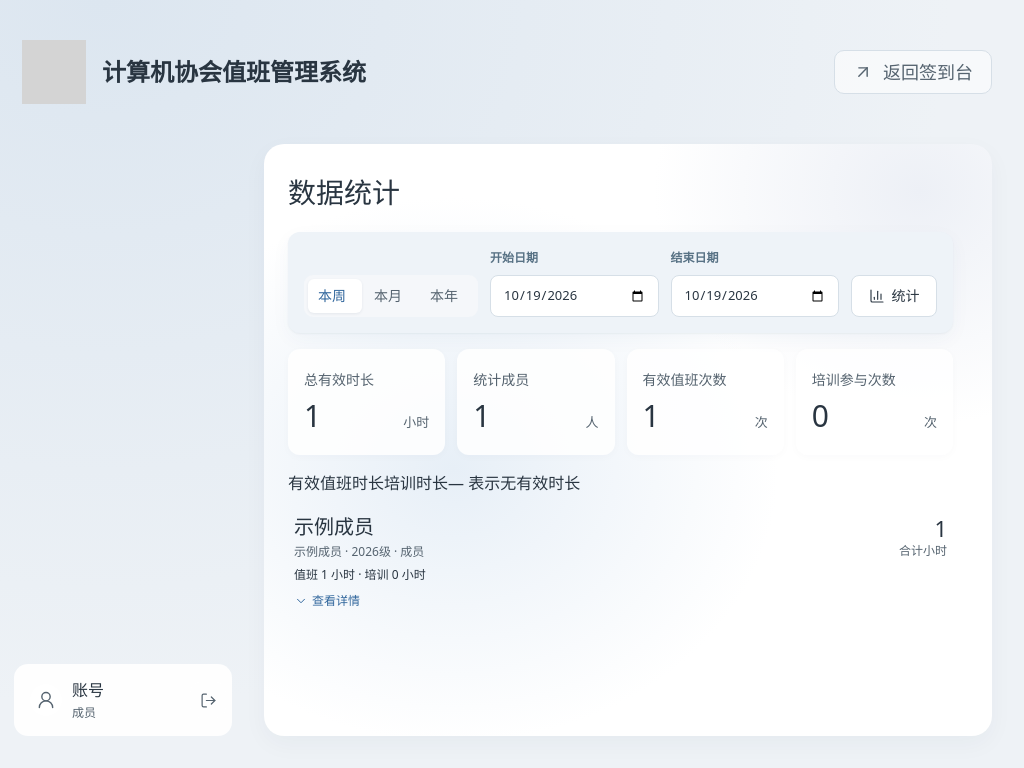
Scenario: StatsPage request states › requires applying changed dates before replacing the displayed statistics
Step 1. Type "2026-01-01" into the date field named "statsFrom" → (574, 296), box left=490, top=275, right=658, bottom=317
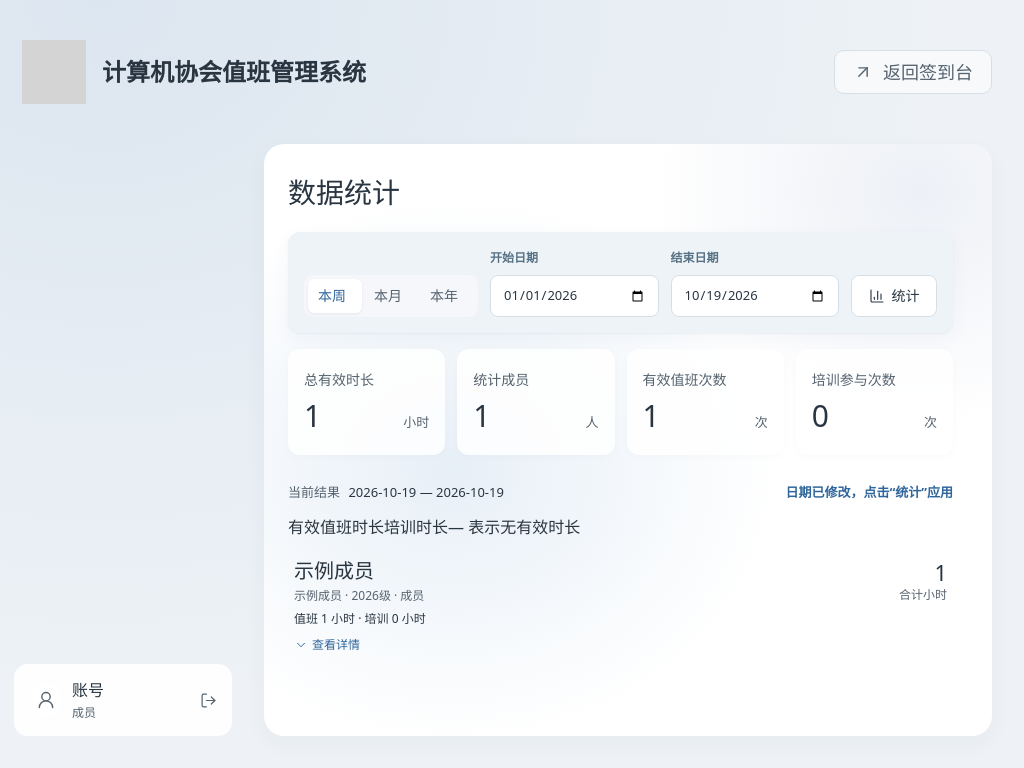
Now the element with class "stats-results-context" shows "日期已修改，点击“统计”应用", box left=785, top=483, right=953, bottom=501
Step 2. Submit the form, box left=288, top=232, right=953, bottom=333
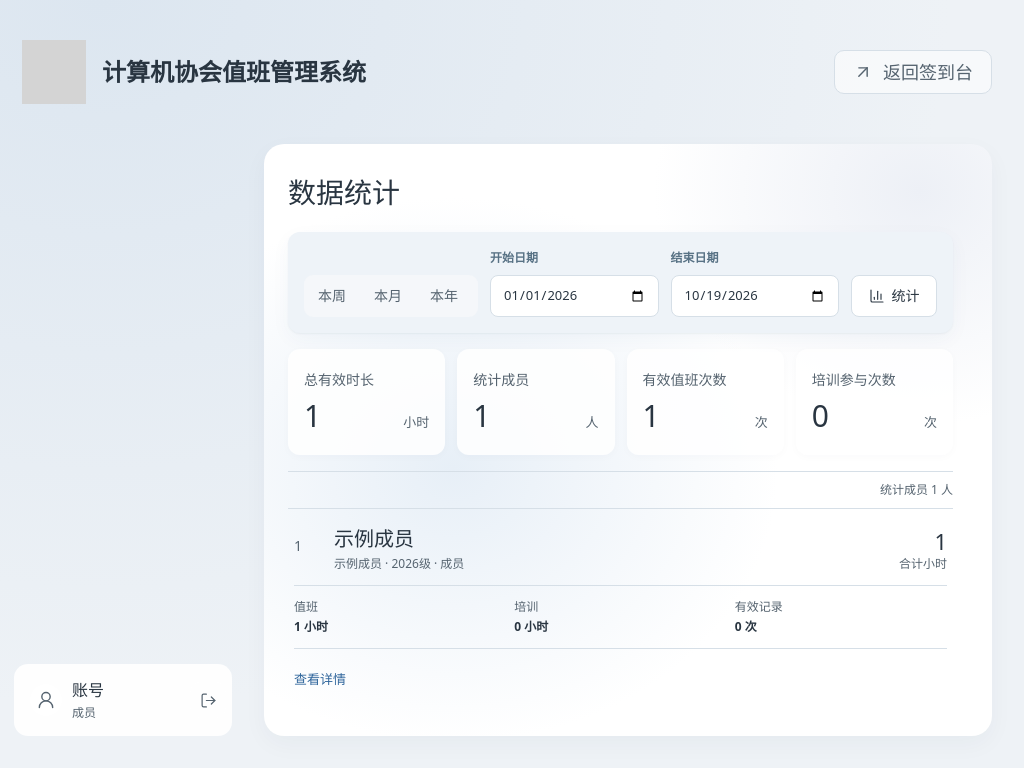
Now the message with class "stats-results-context" no longer shows "日期已修改"
